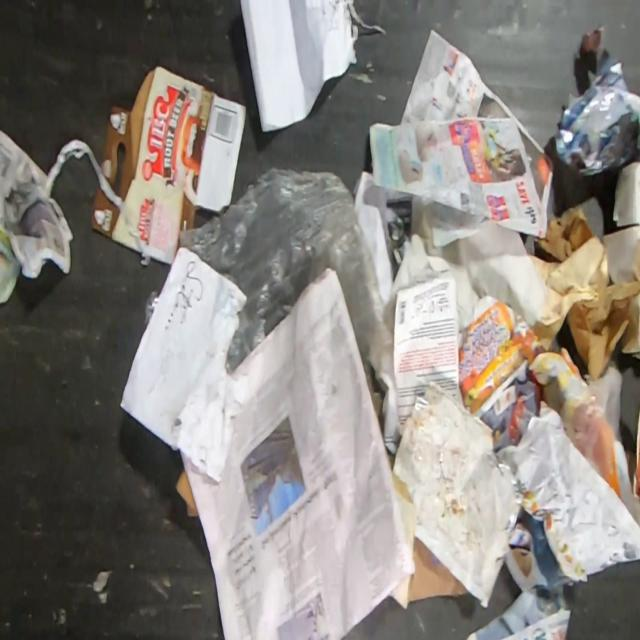cardboard: (98, 63, 250, 267), (601, 160, 640, 363), (410, 536, 476, 602), (90, 175, 142, 254), (172, 467, 202, 521), (631, 397, 640, 503)
soft_plastic: (180, 165, 394, 381), (559, 365, 624, 486), (142, 289, 163, 333)
